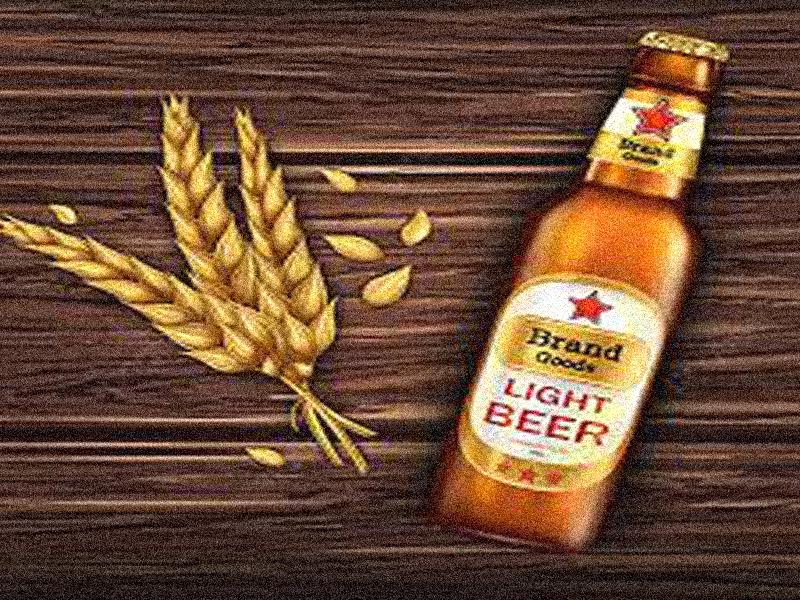Beer: (430, 29, 732, 549)
